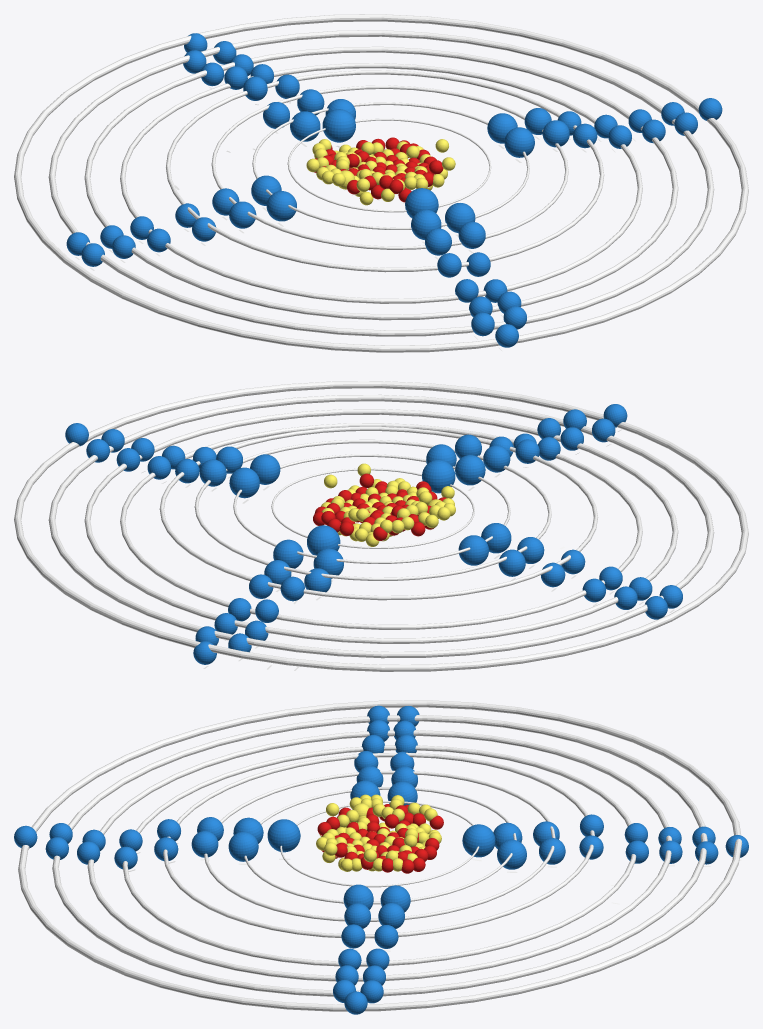
3 views of the same model, one above another, from view 1: azimuth 30°, elevation 25°; view 2: azimuth 150°, elevation 25°; view 3: azimuth 270°, elevation 25° (orthographic).
Parts seen in each view (by area): view 1: Torus.008, Torus.007, Torus.006, Torus.005, Torus.004, Torus.003, Torus.002, Torus.001, g, g.005, g.003, g.008 (+10 smaller); view 2: Torus.008, Torus.007, Torus.006, Torus.005, Torus.004, Torus.003, Torus.002, Torus.001, g.001, g, g.006, g.004 (+13 smaller); view 3: Torus.008, Torus.007, Torus.006, Torus.005, Torus.004, Torus.003, Torus.002, g.001, g, Torus.001, g.007, g.009 (+6 smaller).
Boxes of the visible parts, x1,y1,x2,y2 form: Torus.008: (14, 14, 748, 352); Torus.007: (48, 30, 714, 336); Torus.006: (84, 46, 678, 320); Torus.005: (120, 63, 642, 303); Torus.004: (166, 70, 604, 272); Torus.003: (211, 85, 568, 249); Torus.002: (252, 102, 529, 229); Torus.001: (287, 118, 491, 212); g: (322, 109, 355, 142); g.005: (504, 127, 534, 157); g.003: (266, 191, 296, 221); g.008: (290, 111, 320, 141); Torus.008: (14, 381, 748, 671); Torus.007: (48, 394, 714, 658); Torus.006: (84, 409, 678, 643); Torus.005: (120, 423, 642, 629); Torus.004: (159, 426, 598, 600); Torus.003: (194, 439, 551, 580); Torus.002: (233, 454, 510, 563); Torus.001: (271, 468, 474, 548); g.001: (422, 459, 455, 493); g: (307, 525, 340, 555); g.006: (455, 455, 485, 485); g.004: (229, 467, 259, 498); Torus.008: (18, 700, 742, 1011); Torus.007: (52, 715, 707, 996); Torus.006: (87, 730, 671, 981); Torus.005: (122, 745, 636, 966); Torus.004: (163, 752, 594, 938); Torus.003: (204, 770, 555, 921); Torus.002: (244, 787, 516, 904); g.001: (267, 819, 300, 852); g: (462, 824, 495, 857); Torus.001: (280, 801, 479, 887); g.007: (228, 831, 258, 861); g.009: (497, 839, 526, 869).
Bounding box in the file's own units: 21.98 × 2.85 × 21.99.
